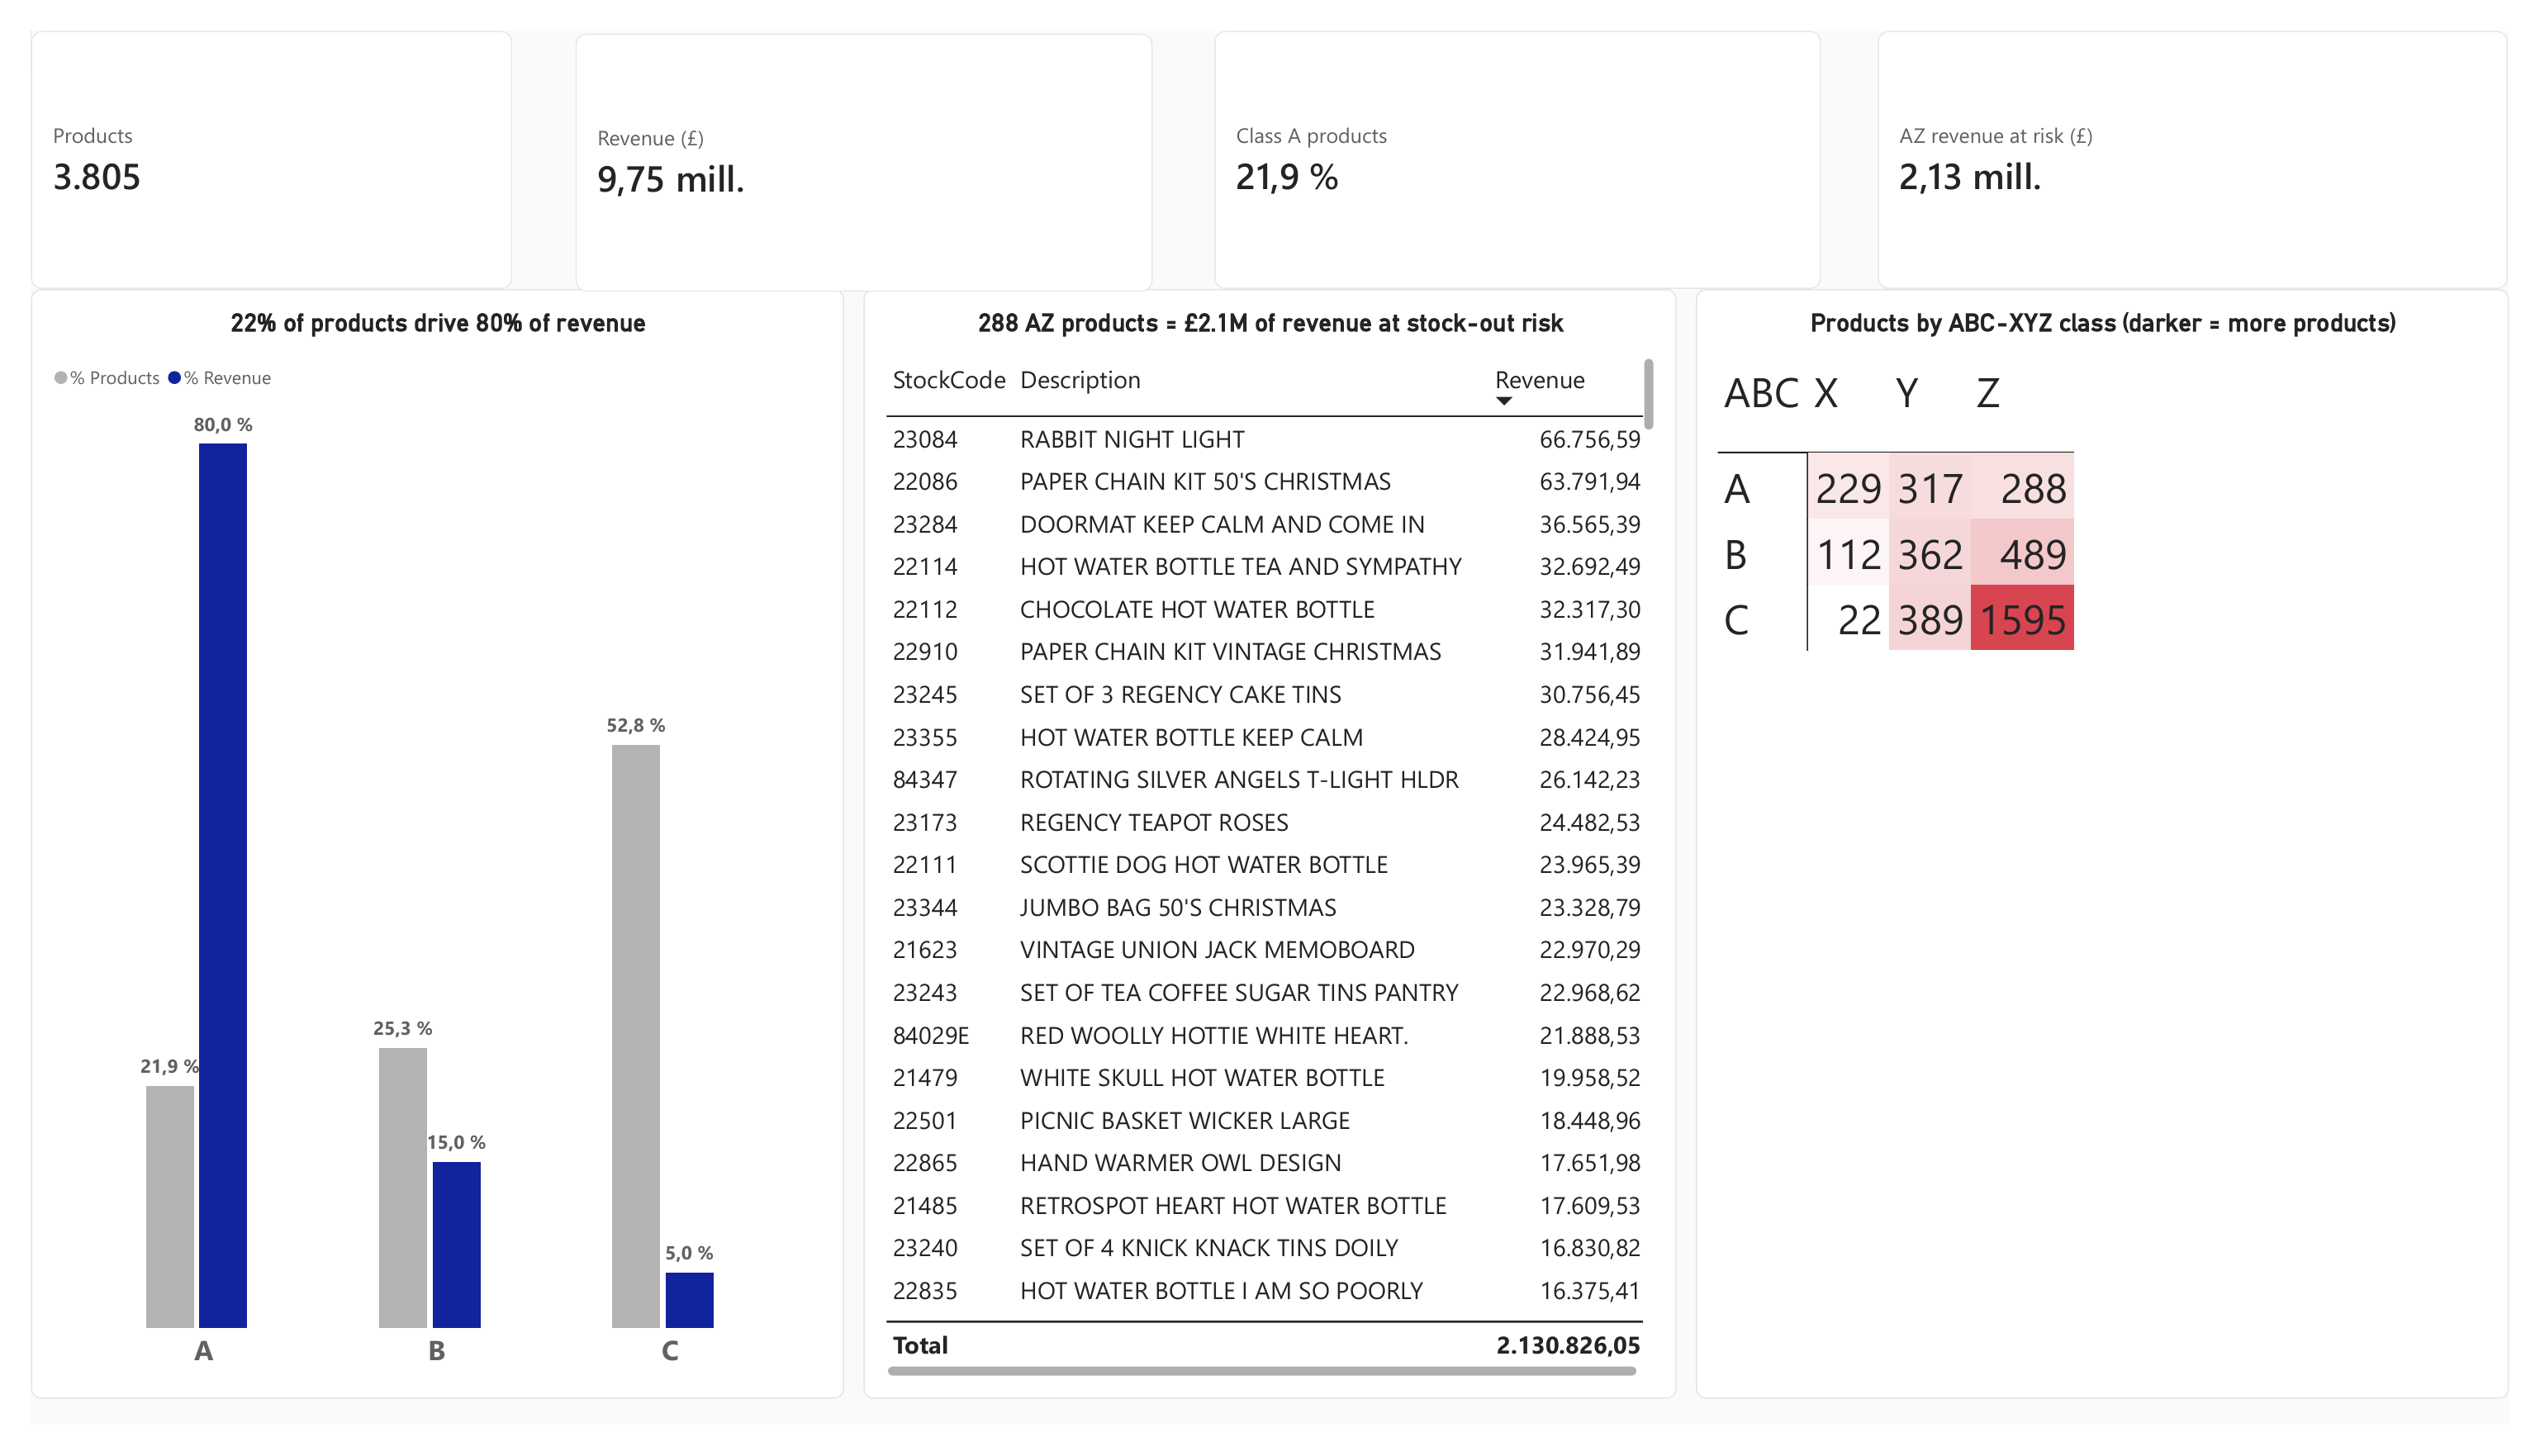

The page's visual inventory and layout, read from the dashboard file:
{"tool":"powerbi","page":{"name":"Página 1","canvas":[1920,1080],"ordinal":0},"visuals":[{"type":"clusteredColumnChart","title":"22% of products drive 80% of revenue","fields":{"Category":["Products.ABC"],"Y":["Products.% Products","Products.% Revenue"]},"box":[0,200,630,860],"z":0},{"type":"pivotTable","title":"Products by ABC-XYZ class (darker = more products)","fields":{"Columns":["Products.XYZ"],"Rows":["Products.ABC"],"Values":["Products.Total Products"]},"box":[1290,200,630,860],"z":1000},{"type":"tableEx","title":"288 AZ products = £2.1M of revenue at stock-out risk","fields":{"Values":["Products.StockCode","Products.Description","Sum(Products.Revenue)"]},"box":[645,200,630,860],"z":2000},{"type":"cardVisual","fields":{"Data":["Products.Total Products Label"]},"box":[0,0,373.3,200.5],"z":2001},{"type":"cardVisual","fields":{"Data":["Products.Total Revenue"]},"box":[421.7,2.3,447.1,200.5],"z":2002},{"type":"cardVisual","fields":{"Data":["Products.% Products A"]},"box":[917.2,0,470.1,200.5],"z":2003},{"type":"cardVisual","fields":{"Data":["Products.AZ Revenue"]},"box":[1431.1,0,488.5,200.5],"z":2004}]}

Visuals, with their boxes on the page's 1920x1080 design canvas (x1, y1, x2, y2). These are canvas units, not pixel positions in the 2540x1456 screenshot, which may show the page scaled, cropped or inside an application window:
"22% of products drive 80% of revenue" clusteredColumnChart: 0/200/630/1060
"Products by ABC-XYZ class (darker = more products)" pivotTable: 1290/200/1920/1060
"288 AZ products = £2.1M of revenue at stock-out risk" tableEx: 645/200/1275/1060
cardVisual - Products.Total Products Label: 0/0/373/200
cardVisual - Products.Total Revenue: 422/2/869/203
cardVisual - Products.% Products A: 917/0/1387/200
cardVisual - Products.AZ Revenue: 1431/0/1920/200
